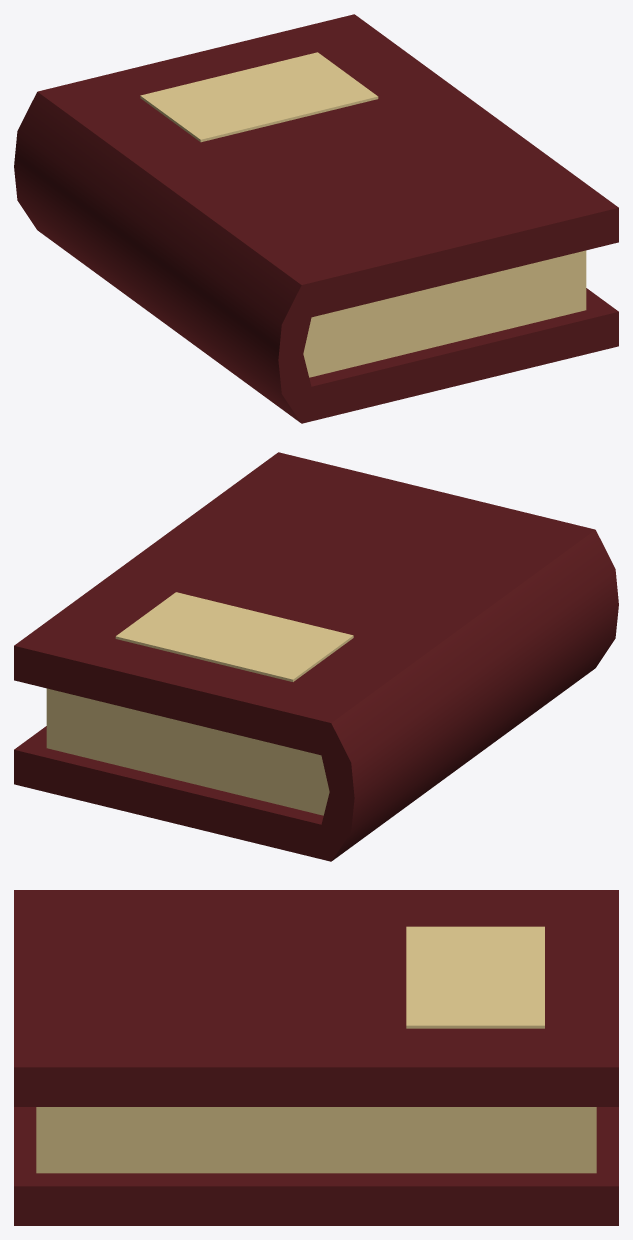
The model's file is Buch.fbx.
3 renders of one model, top to bottom at view 1: azimuth 30°, elevation 25°; view 2: azimuth 150°, elevation 25°; view 3: azimuth 270°, elevation 25°, orthographic. The views are drawn at different scales.
Parts seen in each view (by area): view 1: Buch; view 2: Buch; view 3: Buch.
Part boxes in pixels (box(x1,y1,x2,y2)): Buch: box(14, 14, 618, 423); Buch: box(14, 452, 618, 861); Buch: box(14, 890, 618, 1225).
Size of the model in its own units: 74.59 by 29.55 by 100.
